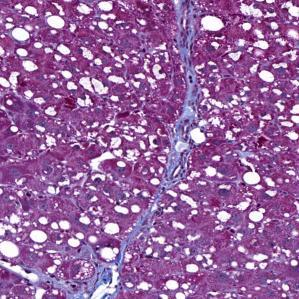fibrosis: (163, 46, 202, 182)
